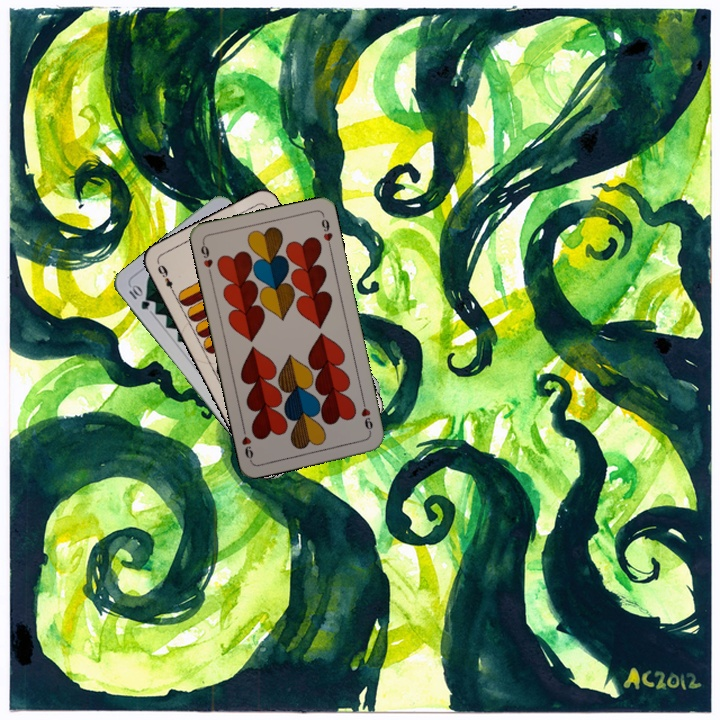E9: (153, 259, 178, 297)
G10: (125, 281, 152, 312)
H9: (197, 238, 215, 278), (357, 396, 375, 436)
